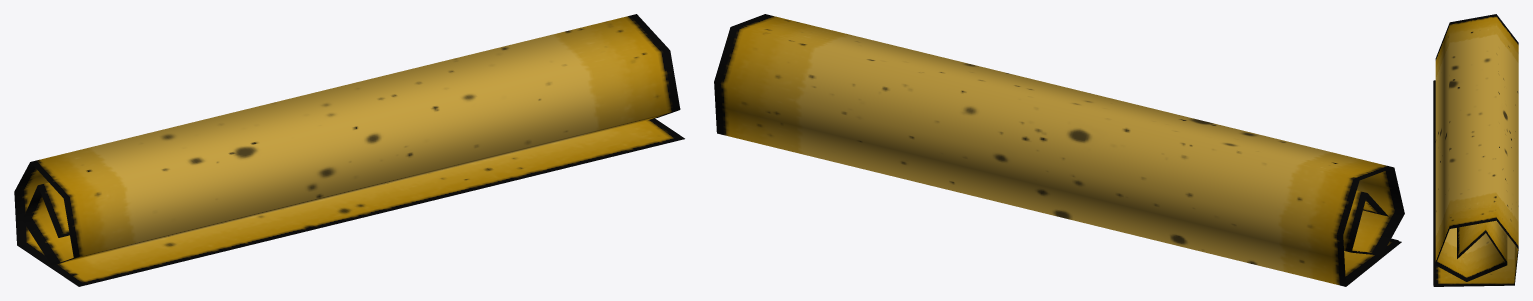
The model's file is paper4.obj.
The picture shows the model from 3 angles, left to right: view 1: azimuth 30°, elevation 25°; view 2: azimuth 150°, elevation 25°; view 3: azimuth 270°, elevation 25°; orthographic projection. The views are drawn at different scales.
Visible parts, largest first — view 1: paper.003; view 2: paper.003; view 3: paper.003.
Part boxes in pixels (box(x1,y1,x2,y2)): paper.003: box(14, 14, 684, 286); paper.003: box(714, 14, 1404, 286); paper.003: box(1433, 14, 1518, 286).
Size of the model in its own units: 1.38 by 0.2013 by 0.2395.
